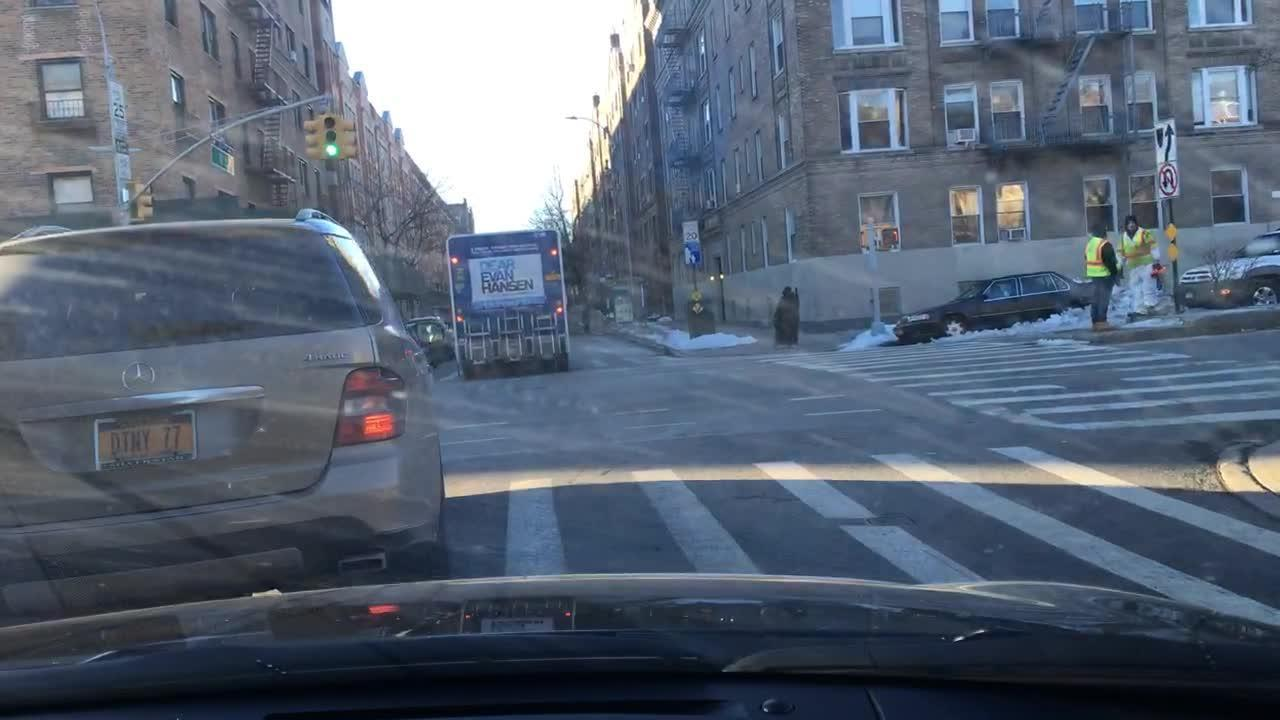Mercedes: (101, 351, 169, 404)
